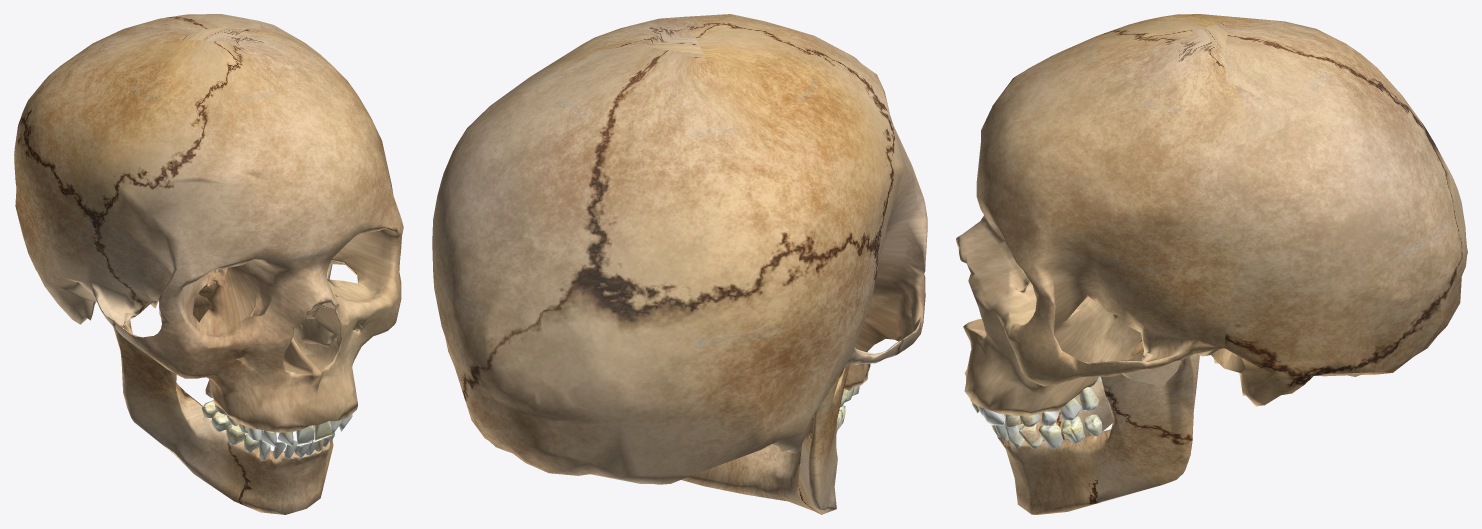
Rendered from Human_Skull.fbx.
3 views of the same model, side by side, from view 1: azimuth 30°, elevation 25°; view 2: azimuth 150°, elevation 25°; view 3: azimuth 270°, elevation 25° (orthographic). The views are drawn at different scales.
Parts seen in each view (by area): view 1: Skull:SkullUperskullSKULL, Skull:SkullLower_skullskull2, Skull:SkullLower_skullteeth1, Skull:SkullUperskullteeth; view 2: Skull:SkullUperskullSKULL, Skull:SkullLower_skullskull2; view 3: Skull:SkullUperskullSKULL, Skull:SkullLower_skullskull2, Skull:SkullLower_skullteeth1, Skull:SkullUperskullteeth.
Boxes of the visible parts, x1,y1,x2,y2 form: Skull:SkullUperskullSKULL: (14, 14, 403, 432); Skull:SkullLower_skullskull2: (113, 264, 333, 514); Skull:SkullLower_skullteeth1: (201, 400, 334, 459); Skull:SkullUperskullteeth: (205, 380, 352, 447); Skull:SkullUperskullSKULL: (432, 14, 927, 484); Skull:SkullLower_skullskull2: (681, 364, 850, 514); Skull:SkullUperskullSKULL: (956, 14, 1467, 415); Skull:SkullLower_skullskull2: (997, 341, 1199, 514); Skull:SkullLower_skullteeth1: (991, 376, 1102, 449); Skull:SkullUperskullteeth: (972, 387, 1099, 427).
Bounding box in the file's own units: 397 × 536 × 530.
